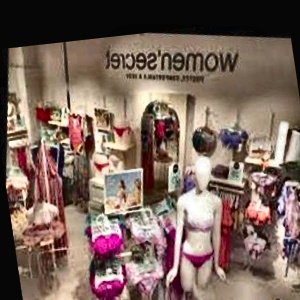women_secret: (179, 20, 289, 36)
